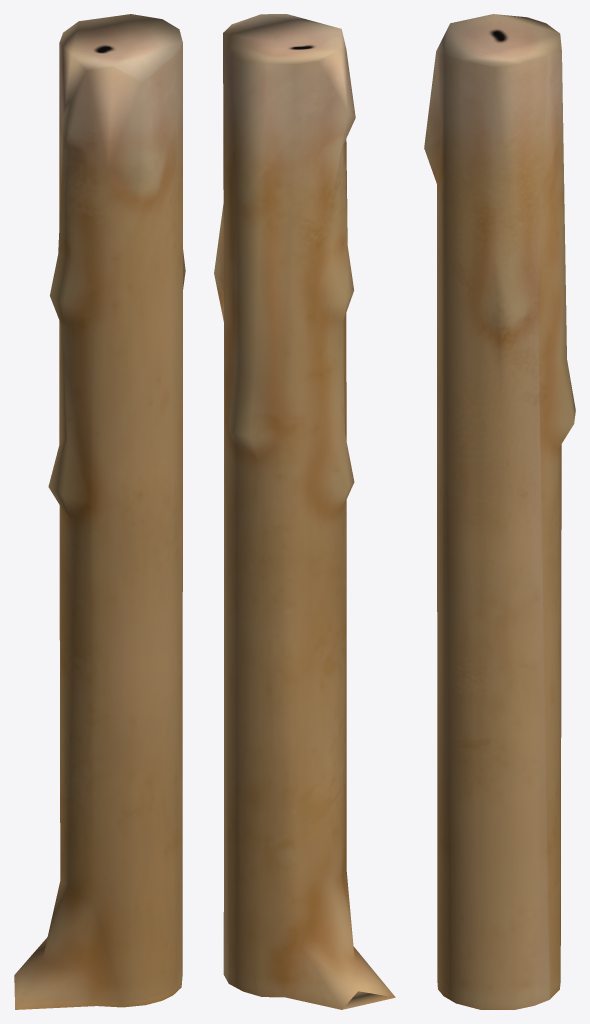
File: SM_Candles_004.fbx
The picture shows the model from 3 angles, left to right: view 1: azimuth 30°, elevation 25°; view 2: azimuth 150°, elevation 25°; view 3: azimuth 270°, elevation 25°; orthographic projection.
Parts seen in each view (by area): view 1: SM_Candles_004_LOD0; view 2: SM_Candles_004_LOD0; view 3: SM_Candles_004_LOD0.
Part boxes in pixels (x1,y1,x2,y2): SM_Candles_004_LOD0: [14, 14, 185, 1009]; SM_Candles_004_LOD0: [214, 14, 395, 1009]; SM_Candles_004_LOD0: [424, 14, 575, 1009].
Size of the model in its own units: 3.88 by 2.94 by 20.2.
Materials: 1 (1 with a texture image).
